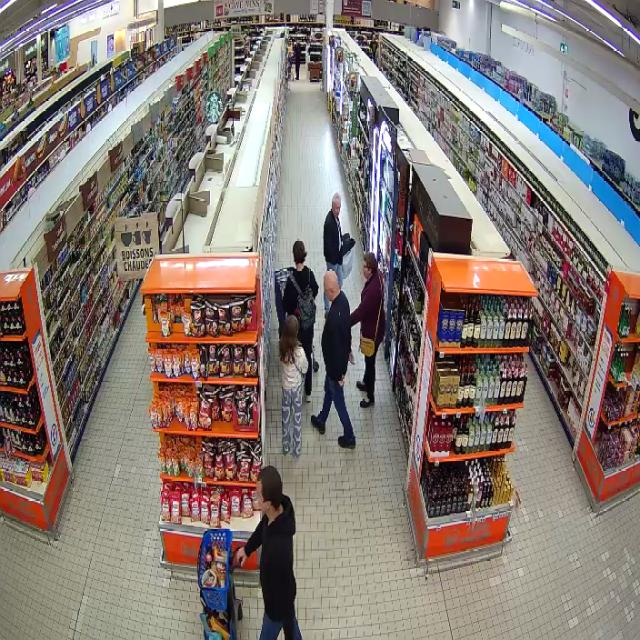bags: (358, 270, 382, 356), (288, 266, 318, 330)
hands: (236, 547, 247, 567), (348, 351, 355, 364), (338, 374, 345, 385)
person: (235, 467, 301, 639), (311, 270, 355, 448), (283, 239, 318, 401), (350, 253, 385, 408), (279, 316, 308, 458), (324, 193, 349, 287)
